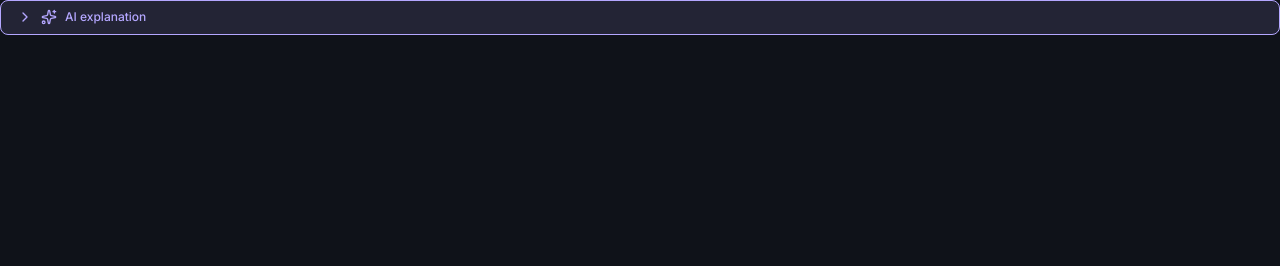
AiExplanation › warns when the scanned content looks like it addresses an AI
The width and height of the screenshot is (1280, 266).
Click the button "AI explanation".
click(106, 16)  # box [17,9,1263,26]
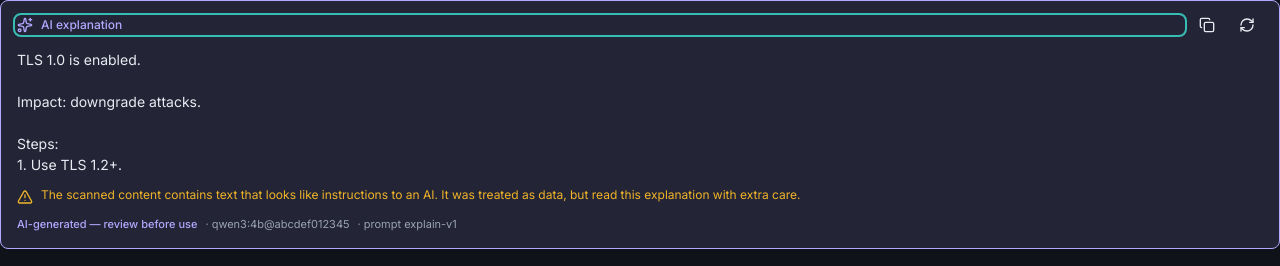
Expected: the text "looks like instructions to an AI" is shown, [41,187,800,202]
